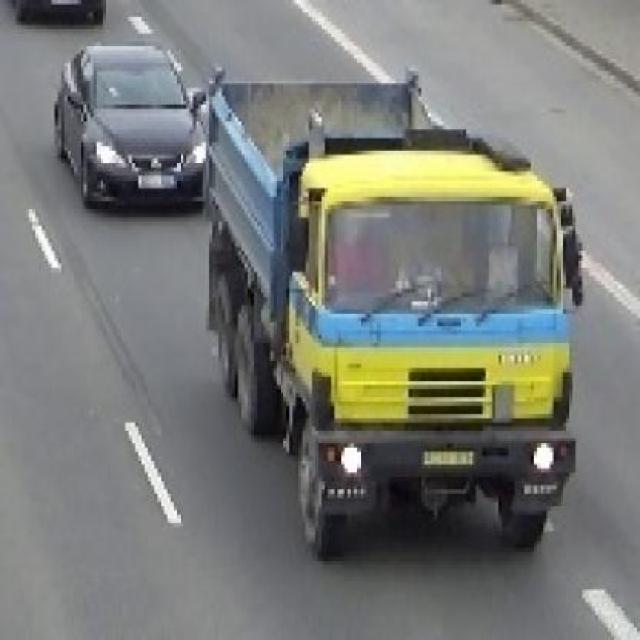truck: (197, 60, 580, 546)
